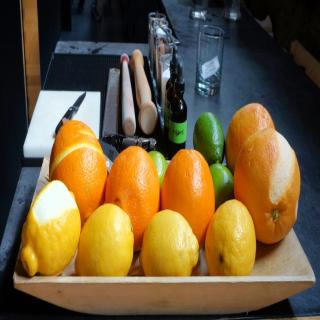Lemon: (19, 180, 81, 278), (74, 202, 134, 276), (204, 198, 256, 279), (138, 210, 199, 278), (193, 111, 225, 166), (210, 162, 233, 208), (147, 149, 168, 189)
Orange: (228, 112, 302, 240), (104, 143, 161, 258), (49, 120, 109, 220), (162, 154, 216, 240), (226, 102, 275, 168)
